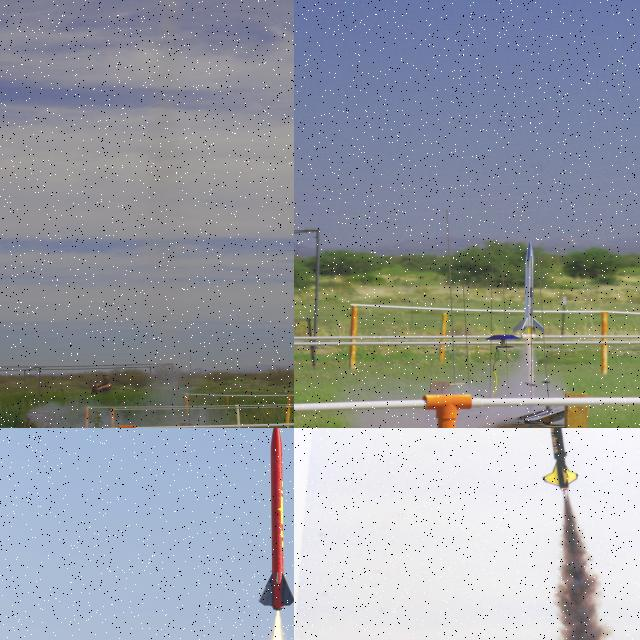Rocket: (259, 428, 294, 611), (511, 242, 548, 334), (541, 428, 580, 492)
